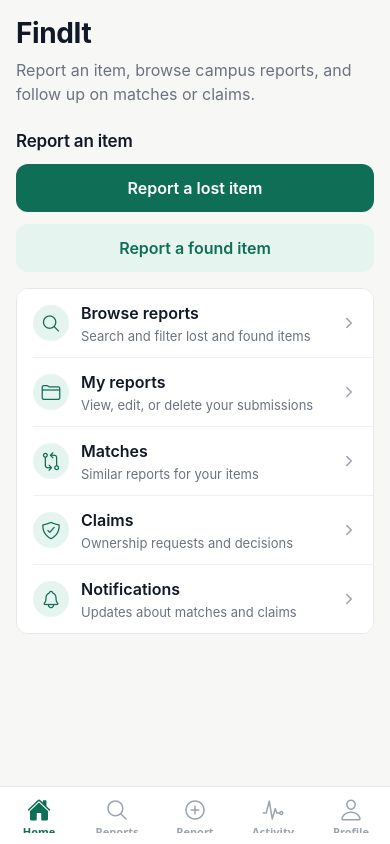
Scenario: ReportForm › submits a valid report and confirms it on the success screen
The width and height of the screenshot is (390, 844).
Check: the text "Restoring your session" is not shown
Click the button "Report a lost item" at (195, 188), box [16, 164, 374, 212]
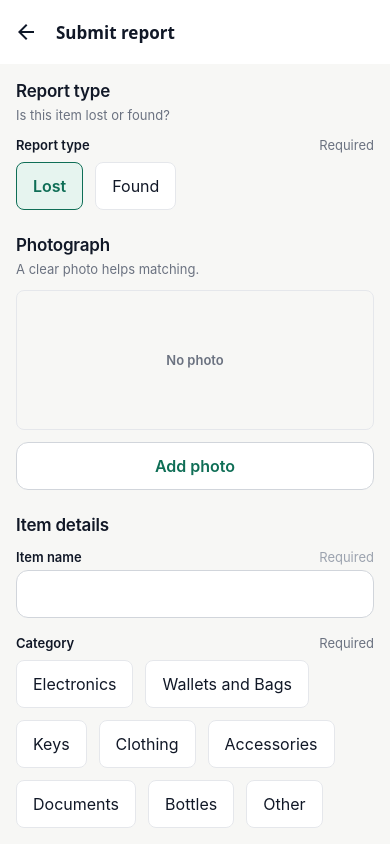
Type "Blue notebook" into the field named "Item name" at (195, 594), box [16, 570, 374, 618]
Click the radio button labelled "Other" at (284, 804), box [246, 780, 323, 828]
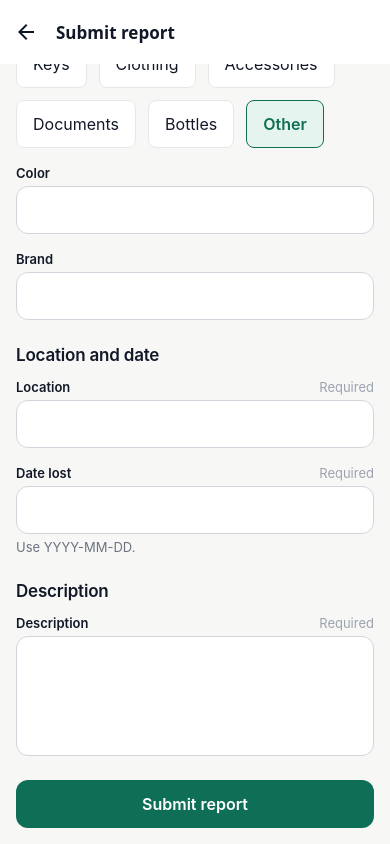
Type "A blue notebook left in a study room." into the text box named "Description" at (195, 696), box [16, 636, 374, 756]
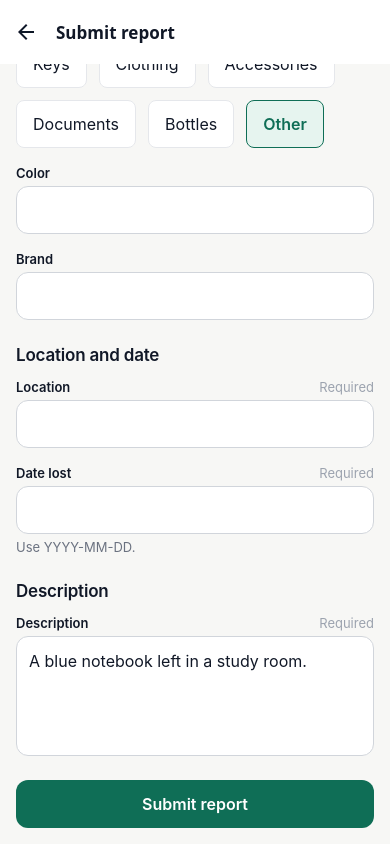
Type "King Library" into the field named "Location" at (195, 424), box [16, 400, 374, 448]
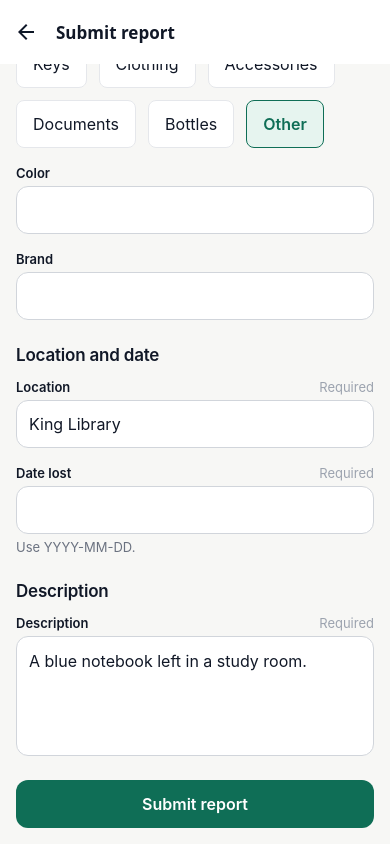
Type "2026-01-15" into the field named "Date lost" at (195, 510), box [16, 486, 374, 534]
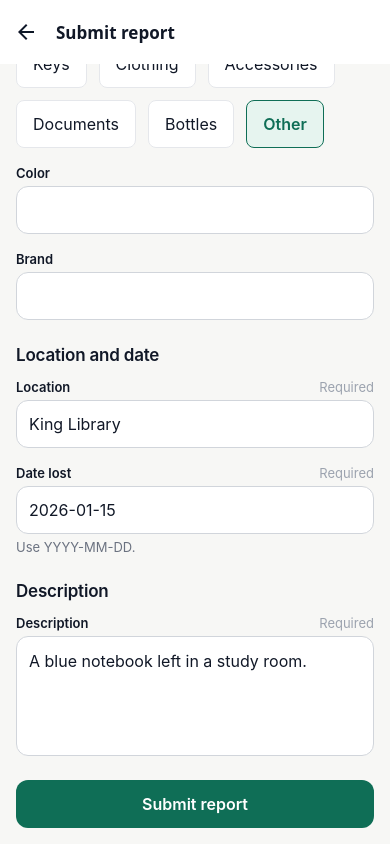
Click the button "Submit report" at (195, 804), box [16, 780, 374, 828]
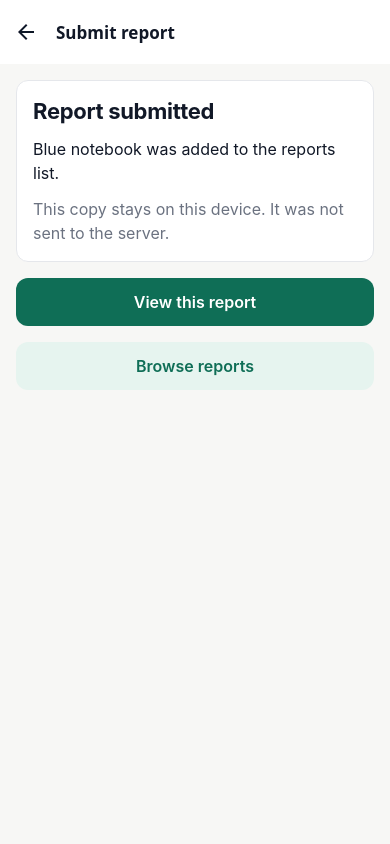
Check: the heading "Report submitted" is shown, box [33, 98, 214, 124]
Check: the text "Blue notebook was added to the reports list." is shown, box [33, 137, 357, 185]
Check: the text "This copy stays on this device. It was not sent to the server." is shown, box [33, 199, 348, 243]
